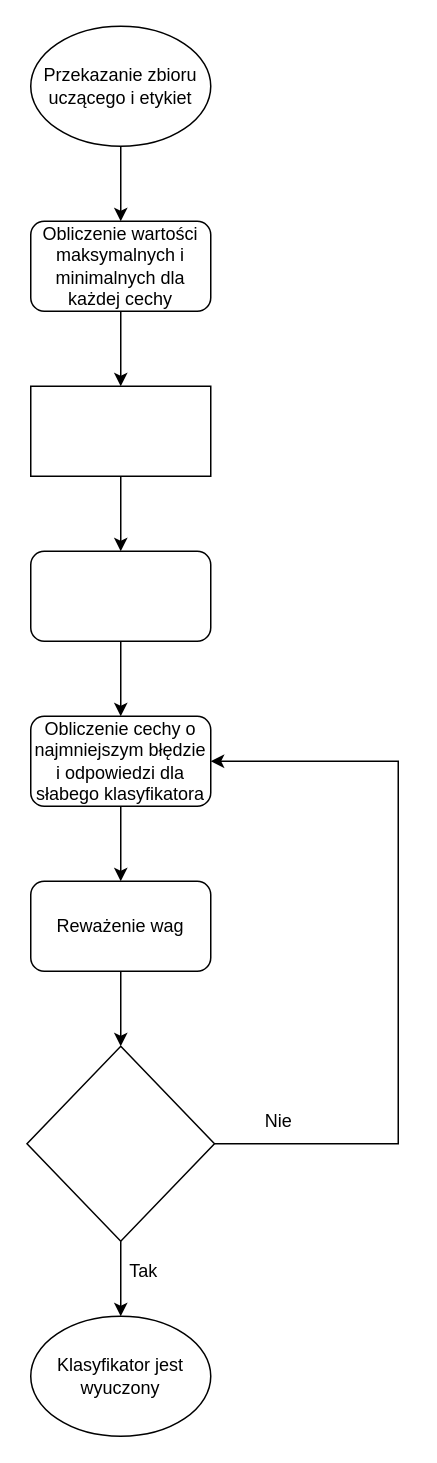
The diagram is 437 pixels wide and 1463 high, and some of its shapes have lost their labels. The shapes that lost their labels are listed below. From the top down, each one's centre as x and y in pixels, then its label:
At [120,430]: "Przygotowanie indeksów dla wszystkich koszyków".
At [120,595]: "Podział wag".
At [120,1143]: "Czy nauczono wszystkie słąbe klasyfikatory".
